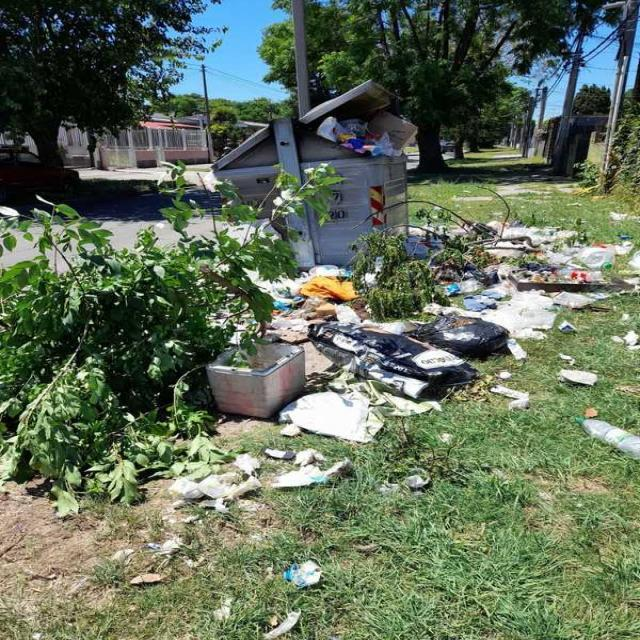garbage: (90, 440, 443, 639), (192, 306, 578, 442), (412, 202, 638, 317), (302, 106, 472, 158), (254, 258, 374, 308), (544, 402, 639, 464)
